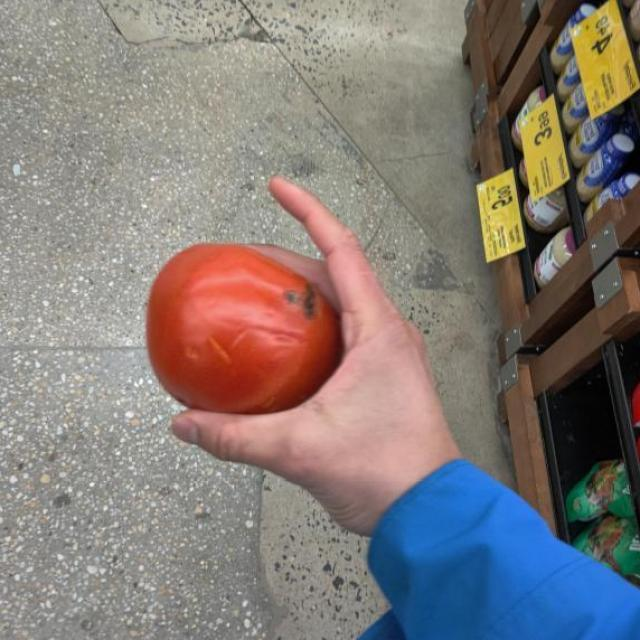Tomatoes: (149, 251, 346, 415)
